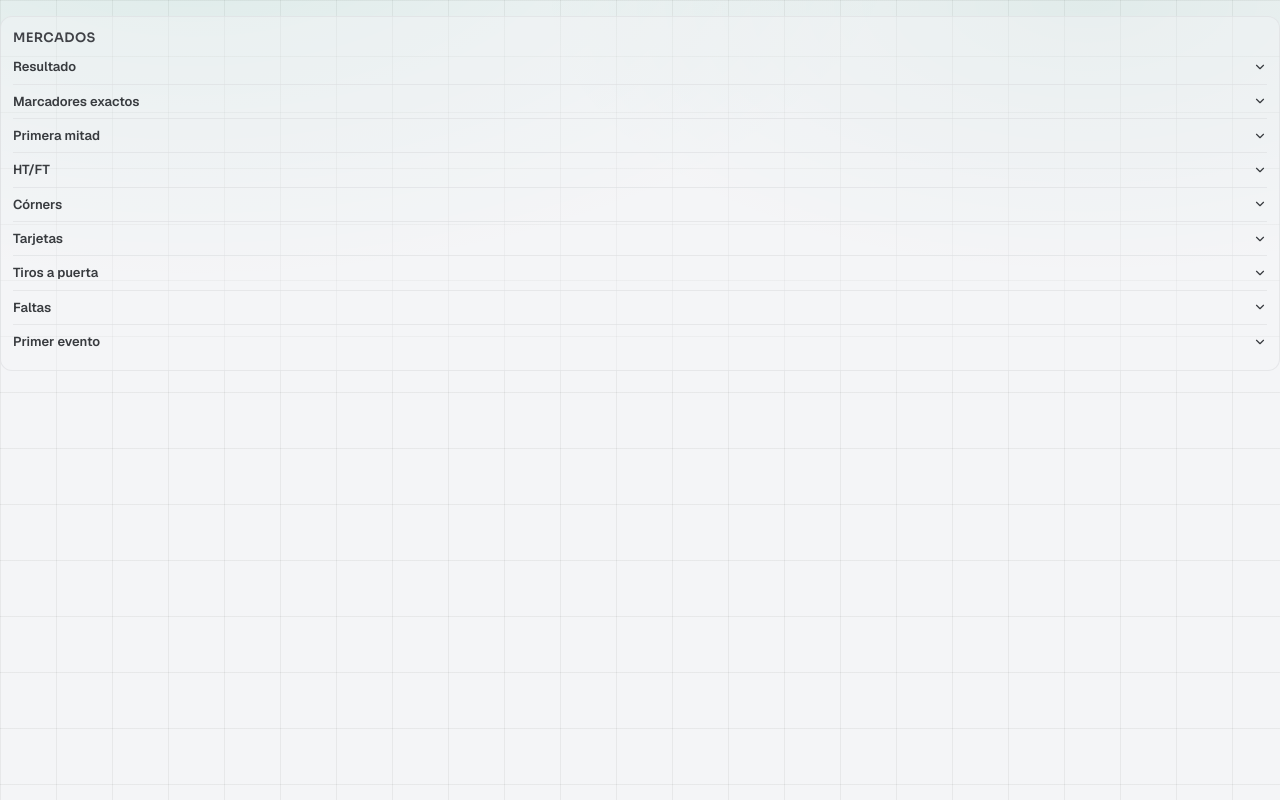
Test: Markets › mantiene una sola seccion abierta a la vez
Click the button "Resultado". click: (45, 67)
box: [13,50,1267,84]
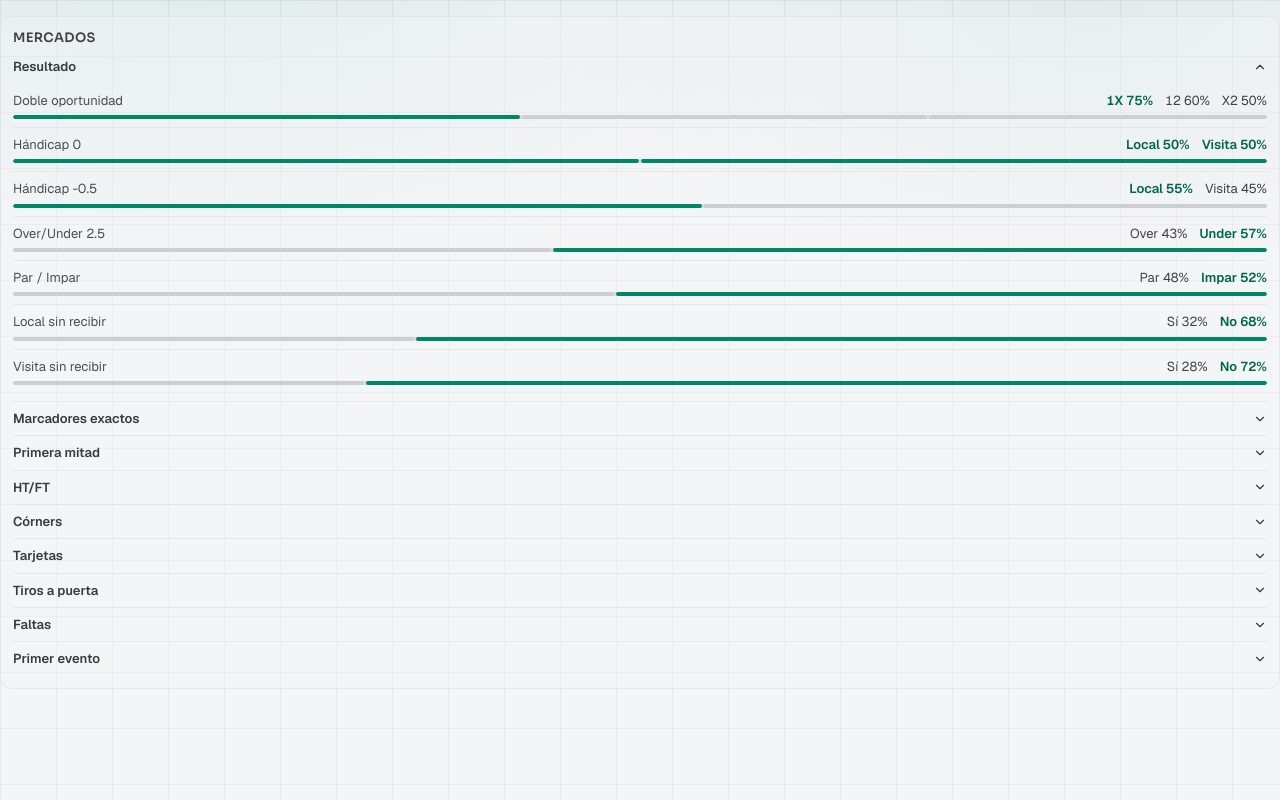
Now the button "Resultado" is expanded, box [13,50,1267,84]
Click the button "Córners". click: (38, 521)
box: [13,505,1267,538]
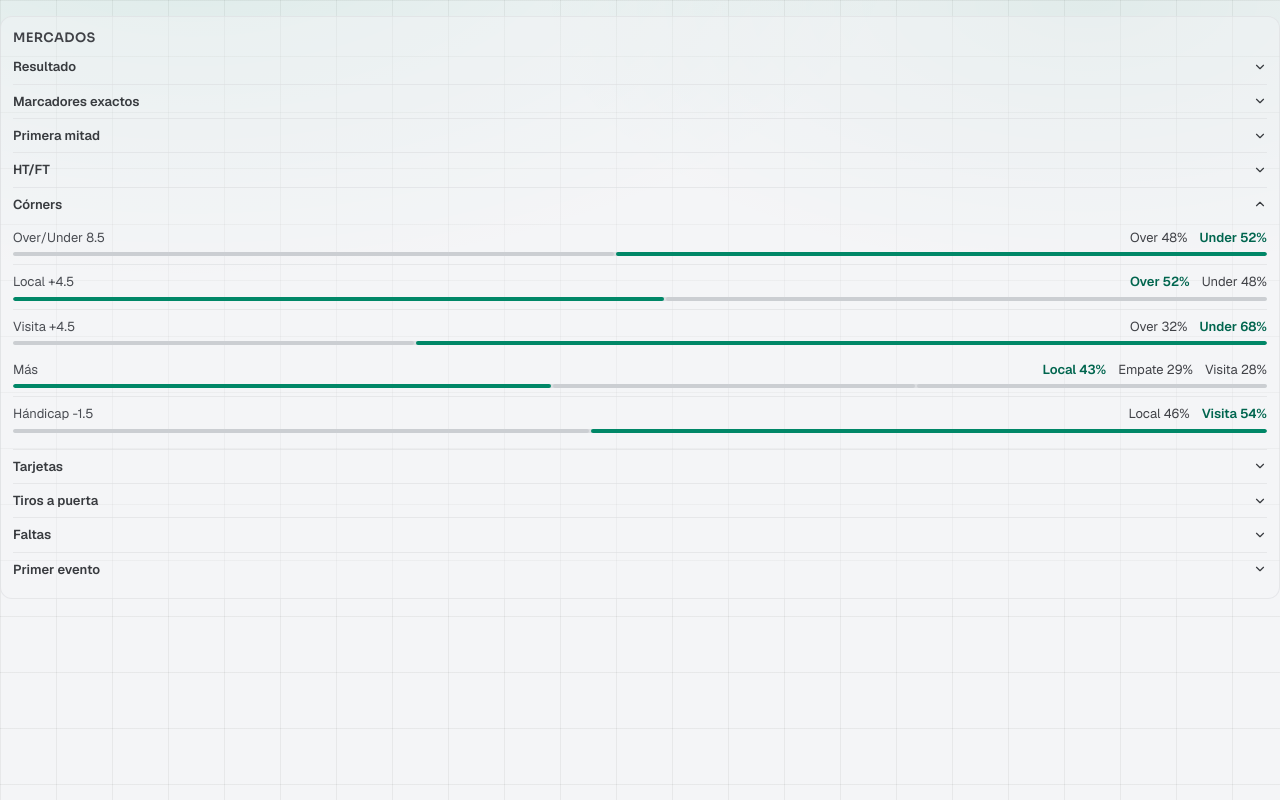
Now the button "Resultado" is collapsed, box [13,50,1267,84]
Now the button "Córners" is expanded, box [13,188,1267,221]
Now the text "Doble oportunidad" is gone
